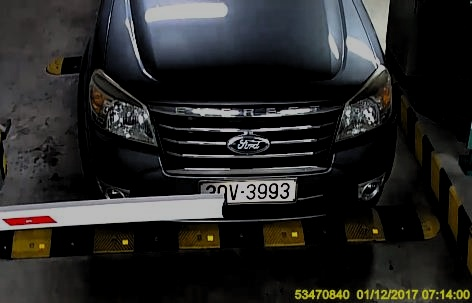plate: (197, 178, 299, 208)
